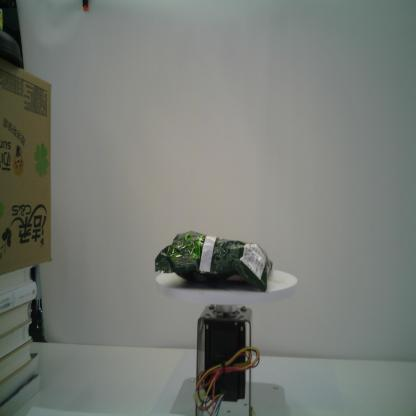Instant Noodles: (154, 228, 274, 295)
